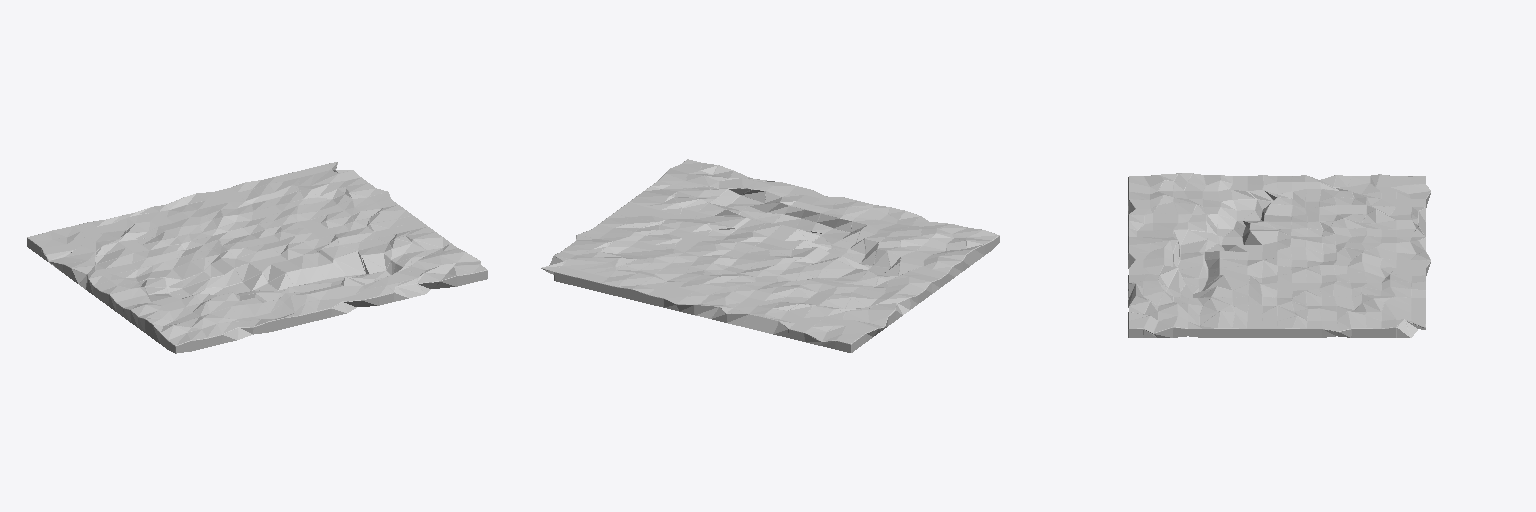
Rendered from groundtemp.obj.
3 renders of one model, left to right at view 1: azimuth 30°, elevation 25°; view 2: azimuth 150°, elevation 25°; view 3: azimuth 270°, elevation 25°, orthographic.
Parts seen in each view (by area): view 1: pCube4; view 2: pCube4; view 3: pCube4.
Boxes of the visible parts, x1=… form: pCube4: x1=27, y1=162, x2=487, y2=353; pCube4: x1=541, y1=159, x2=999, y2=352; pCube4: x1=1128, y1=173, x2=1430, y2=337.
Bounding box in the file's own units: 67.66 × 2.94 × 54.8.